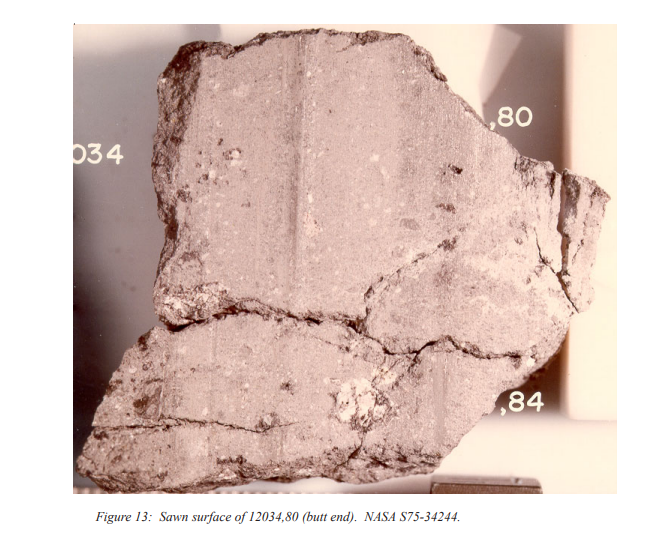Breccia: (90, 38, 610, 485), (198, 189, 451, 472)
